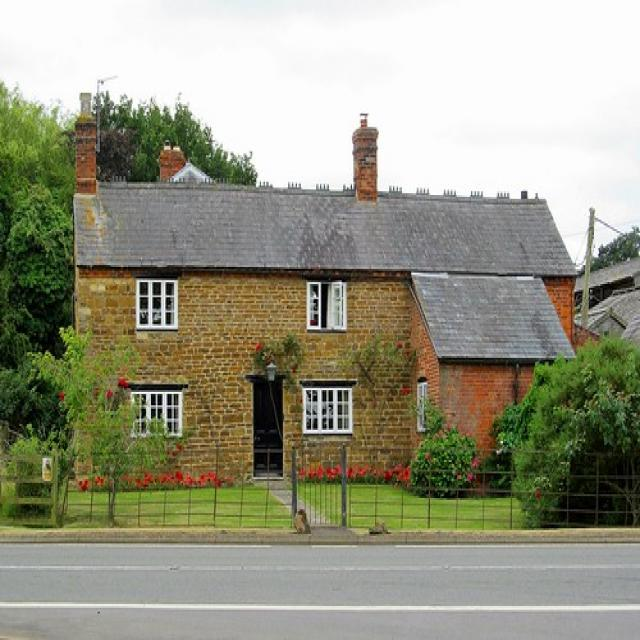Normal_building: (71, 109, 578, 501)
